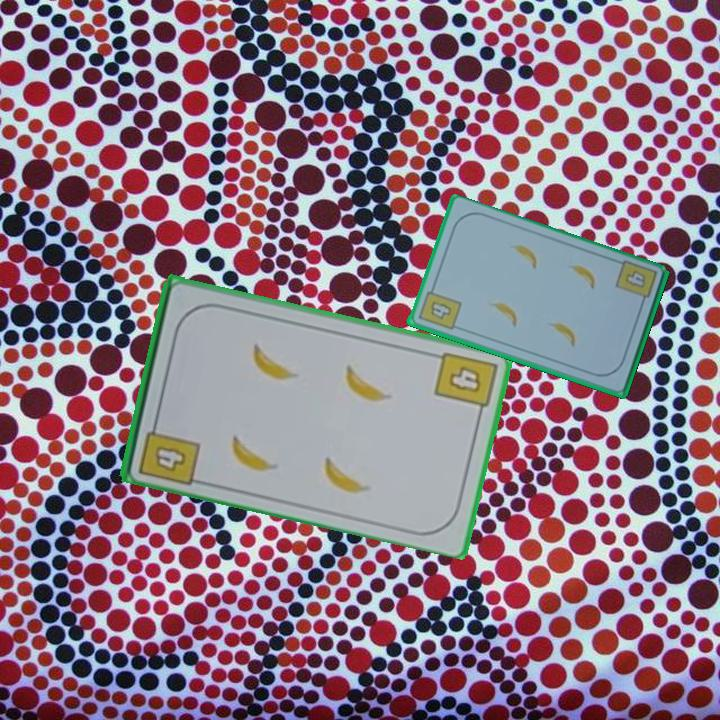4b: (135, 413, 203, 488), (430, 348, 500, 420), (414, 282, 464, 333), (612, 257, 660, 310)
